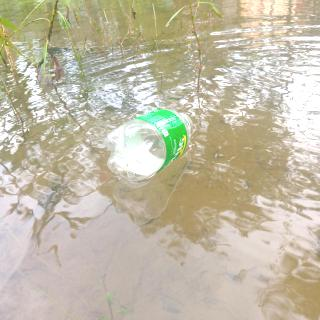bottle: (104, 109, 194, 182)
